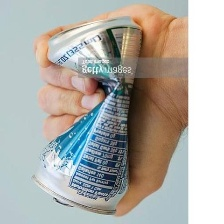can: (28, 15, 152, 217)
